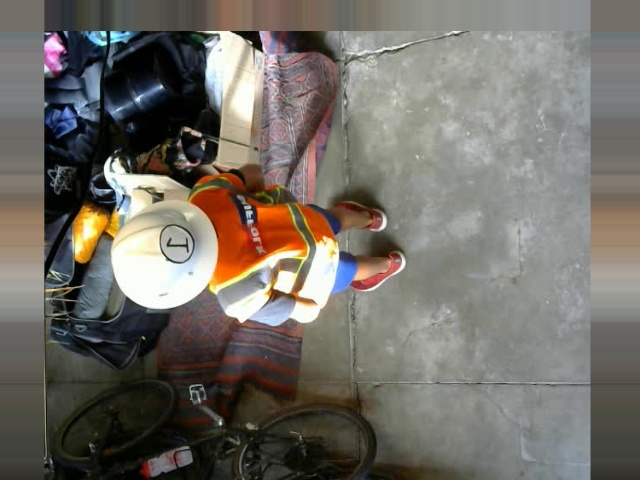one: (157, 223, 193, 263)
